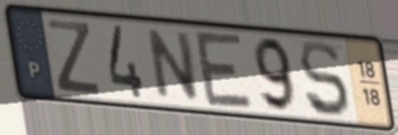4: (107, 22, 146, 100)
9: (249, 35, 299, 115)
E: (192, 29, 257, 113)
N: (146, 26, 202, 103)
S: (297, 38, 353, 121)
Z: (46, 16, 103, 98)
